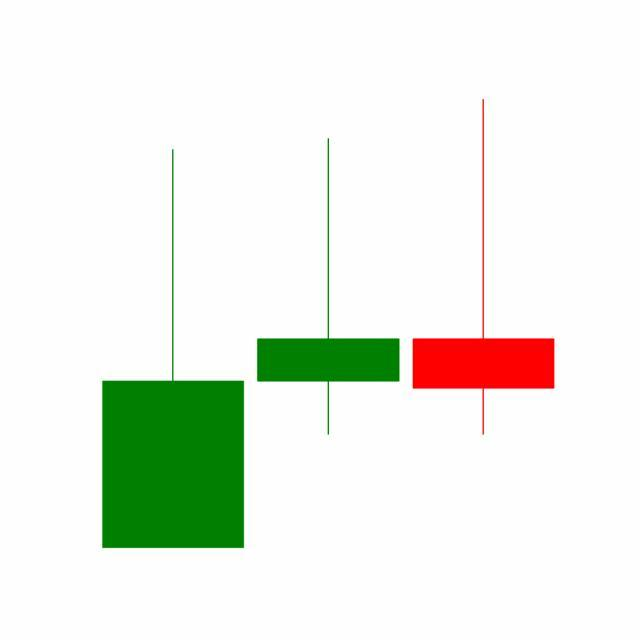Gravestone Doji: (250, 135, 407, 439)
